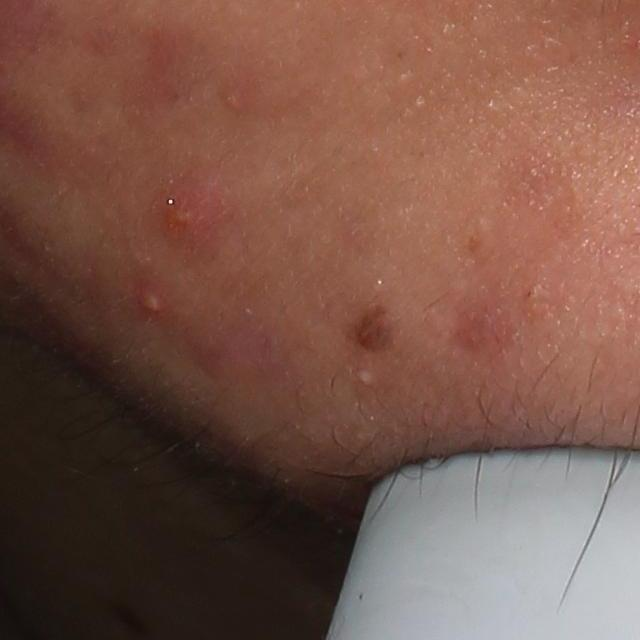nevus: (349, 298, 402, 358)
papule: (153, 175, 230, 266), (222, 72, 254, 120)
pustule: (122, 277, 178, 330), (346, 366, 385, 393)
